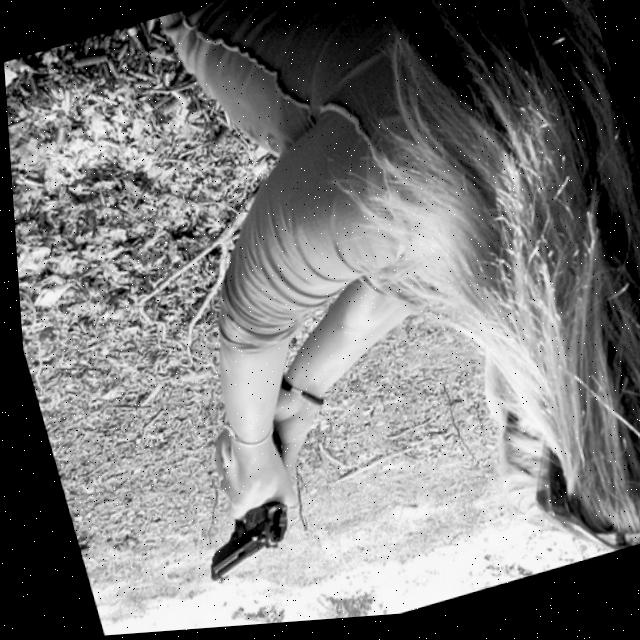pistol: (183, 499, 294, 589)
